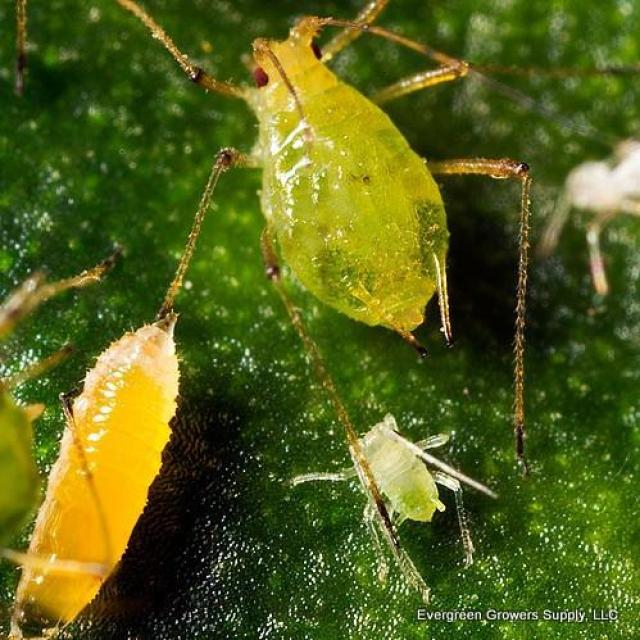aphid: (170, 19, 550, 377), (327, 386, 499, 593)
